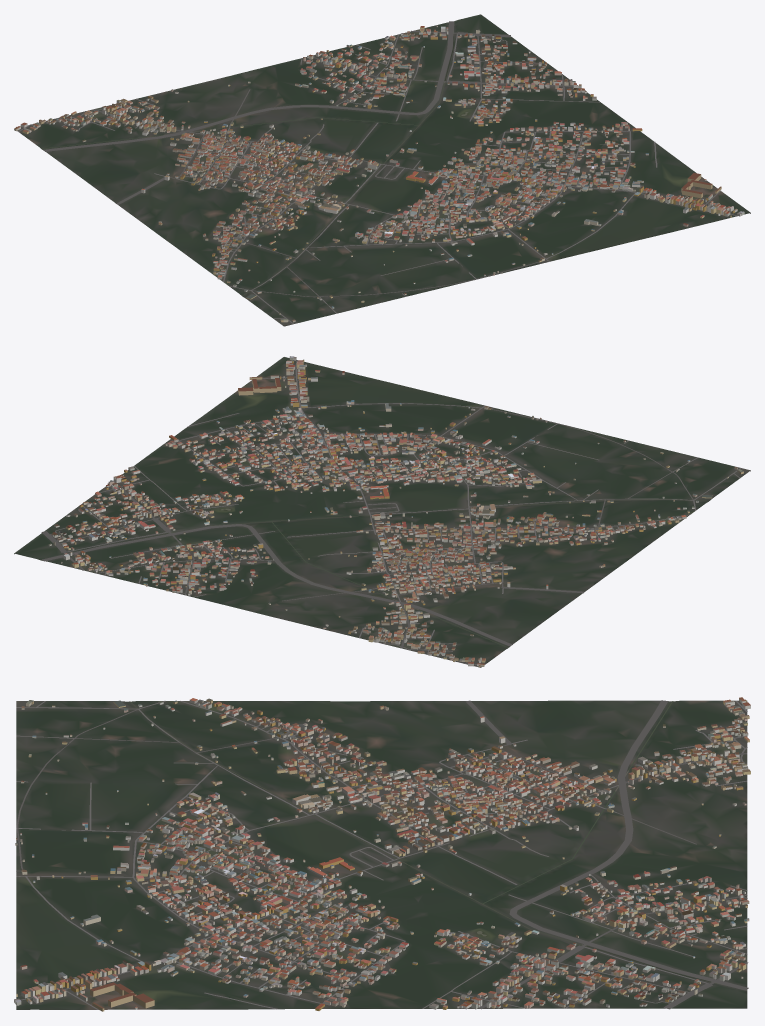
3 views of the same model, one above another, from view 1: azimuth 30°, elevation 25°; view 2: azimuth 150°, elevation 25°; view 3: azimuth 270°, elevation 25° (orthographic). The views are drawn at different scales.
Parts seen in each view (by area): view 1: ground, buildings, roads, water; view 2: ground, buildings, roads, water; view 3: ground, buildings, roads, water.
Part boxes in pixels (<box>): ground: <box>14,14,750,326</box>; buildings: <box>14,25,744,322</box>; roads: <box>18,21,737,324</box>; water: <box>41,31,468,295</box>; ground: <box>14,357,750,667</box>; buildings: <box>48,356,743,666</box>; roads: <box>41,360,741,664</box>; water: <box>41,499,708,647</box>; ground: <box>16,700,747,1009</box>; buildings: <box>14,697,750,1011</box>; roads: <box>16,700,748,1009</box>; water: <box>129,701,746,990</box>.
Size of the model in its own units: 1413 by 20.18 by 1413.
